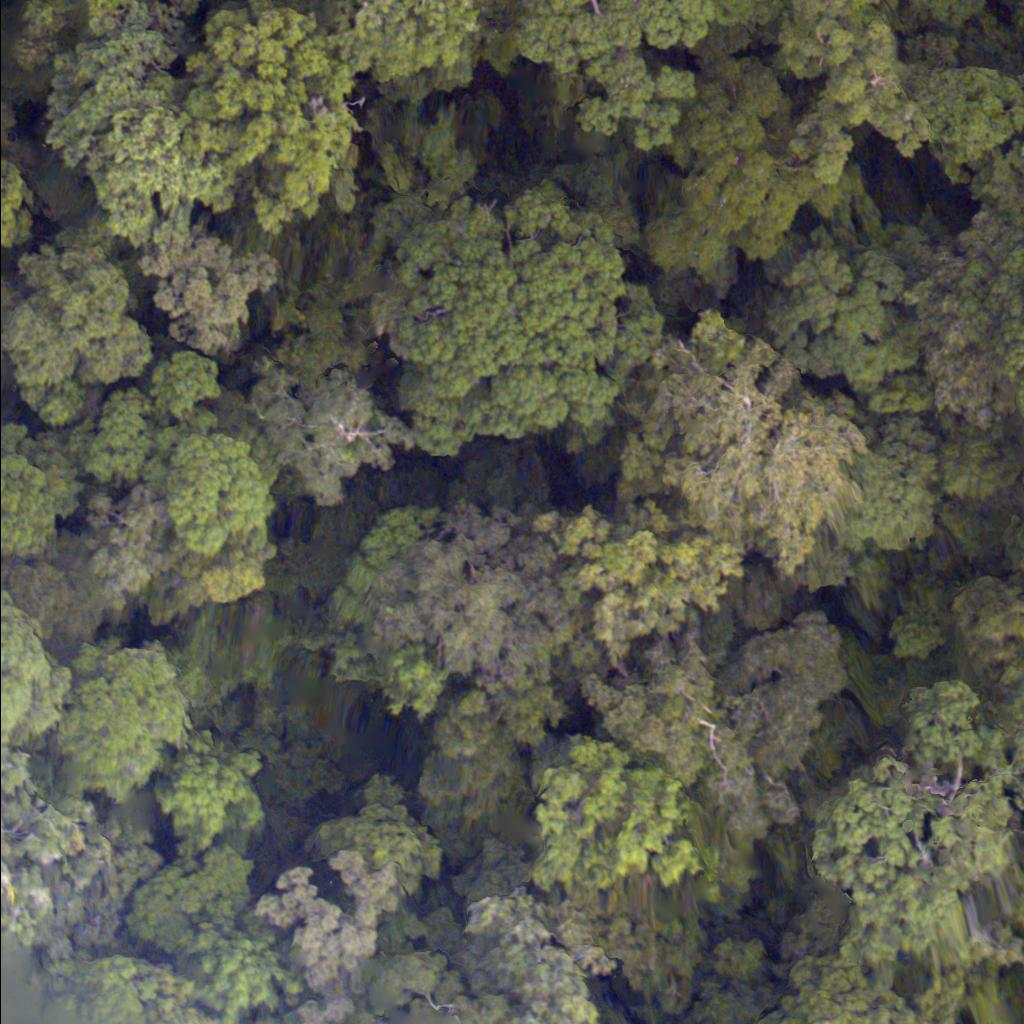crown: (375, 189, 645, 451), (629, 322, 875, 585), (370, 485, 590, 698), (42, 11, 222, 259), (741, 219, 952, 419), (188, 4, 369, 237), (635, 60, 833, 267), (483, 0, 712, 152), (536, 508, 747, 671), (0, 234, 153, 425), (536, 731, 694, 896), (52, 643, 204, 796), (145, 229, 294, 356), (152, 727, 277, 840), (965, 247, 1023, 456), (0, 603, 38, 737), (151, 0, 213, 4)
